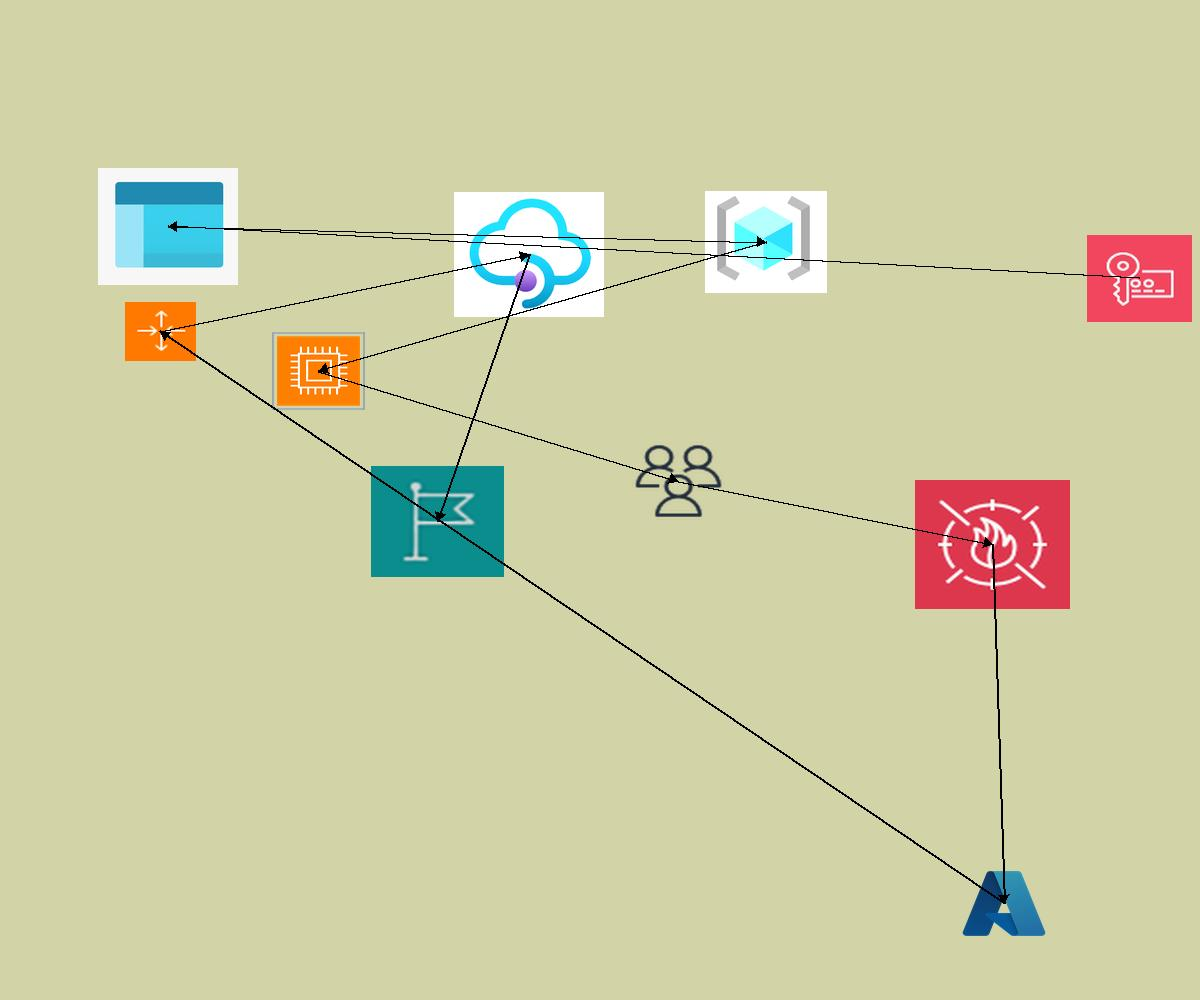AWS-Category_Compute: (272, 332, 365, 410)
AWS-Key-Management-Service: (1087, 235, 1192, 322)
AWS-Region: (371, 466, 504, 577)
AWS-Res_Users: (632, 442, 725, 520)
AWS-Scaling-group: (125, 302, 196, 361)
AWS-WAF: (915, 480, 1070, 609)
Azure_api_gateway: (454, 192, 604, 317)
Azure_management-portal: (98, 168, 238, 285)
Azure_resource_group: (705, 191, 827, 293)
Azure_services: (959, 866, 1049, 941)
